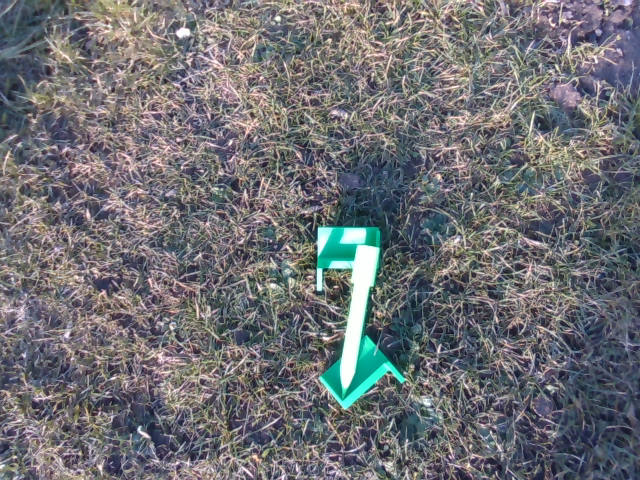Probe: (336, 242, 382, 403)
